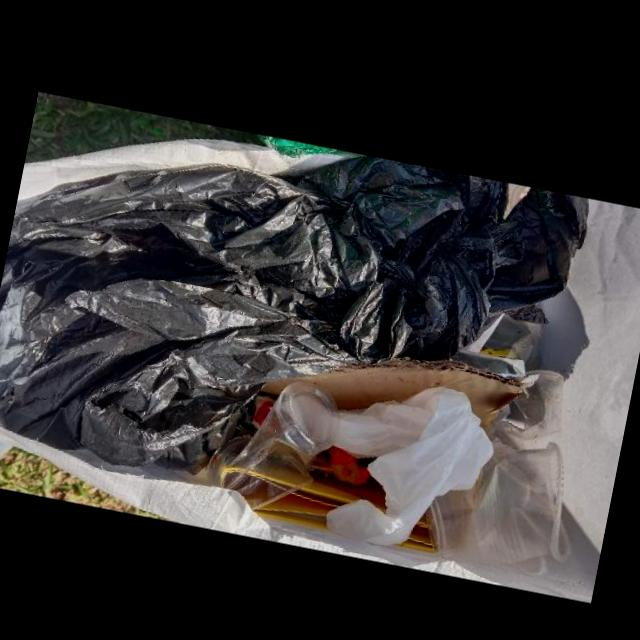carton: (260, 358, 522, 429)
giay: (326, 387, 493, 546)
hop_nhua: (202, 381, 340, 511), (426, 442, 571, 564)
tui_ni_long: (0, 155, 587, 474)
